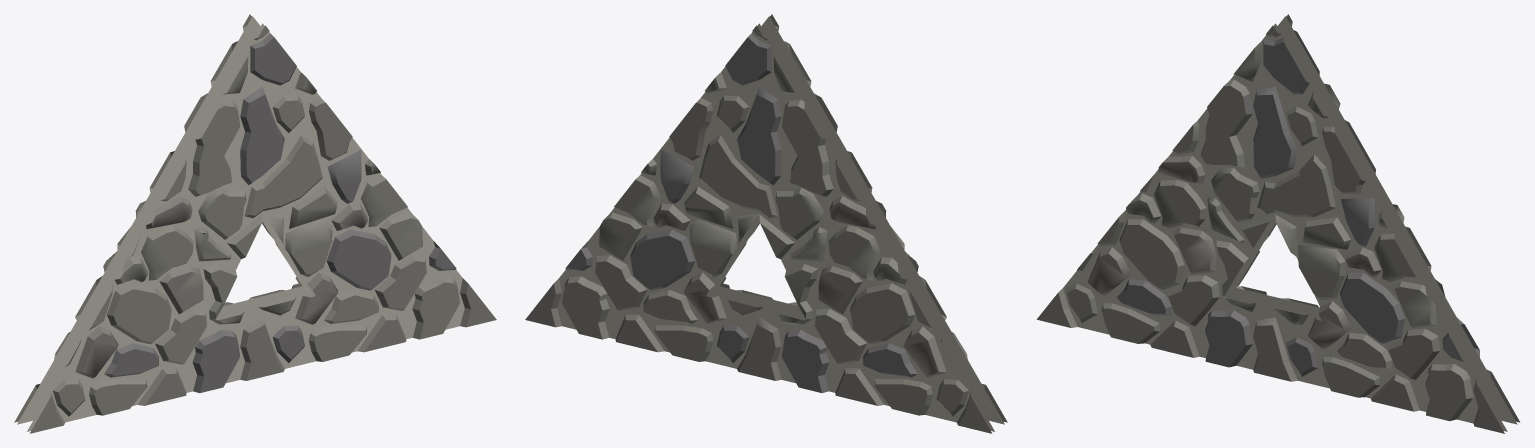
File: rpgpp_ag_roof_end_01_6x5_wall_window_04e.fbx
The picture shows the model from 3 angles, left to right: view 1: azimuth 30°, elevation 25°; view 2: azimuth 150°, elevation 25°; view 3: azimuth 330°, elevation 25°; orthographic projection.
Visible parts, largest first — view 1: rpgpp_ag_roof_end_01_6x5_wall_window_04e; view 2: rpgpp_ag_roof_end_01_6x5_wall_window_04e; view 3: rpgpp_ag_roof_end_01_6x5_wall_window_04e.
Boxes of the visible parts, left/top/right/bottom form: rpgpp_ag_roof_end_01_6x5_wall_window_04e: left=14, top=14, right=496, bottom=433; rpgpp_ag_roof_end_01_6x5_wall_window_04e: left=525, top=14, right=1007, bottom=433; rpgpp_ag_roof_end_01_6x5_wall_window_04e: left=1036, top=14, right=1520, bottom=433.
Bounding box in the file's own units: 6.38 × 4.58 × 0.404.
